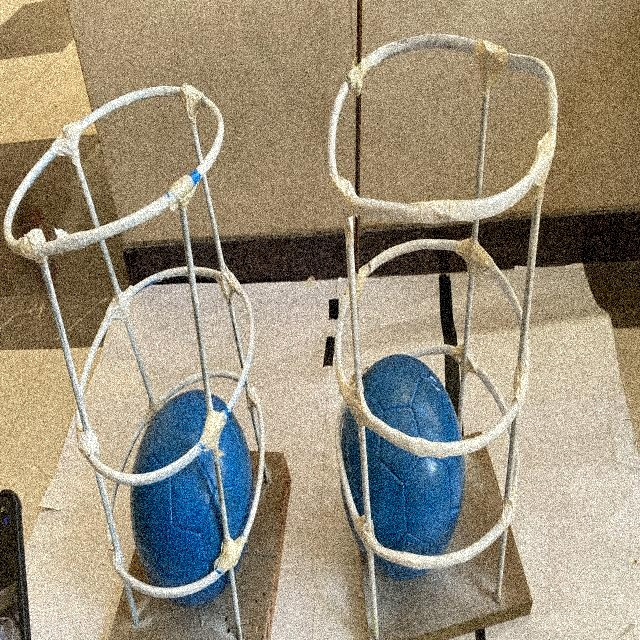blue_ball: (114, 380, 268, 612), (340, 349, 468, 592)
silo: (0, 42, 281, 640), (319, 25, 575, 640)
